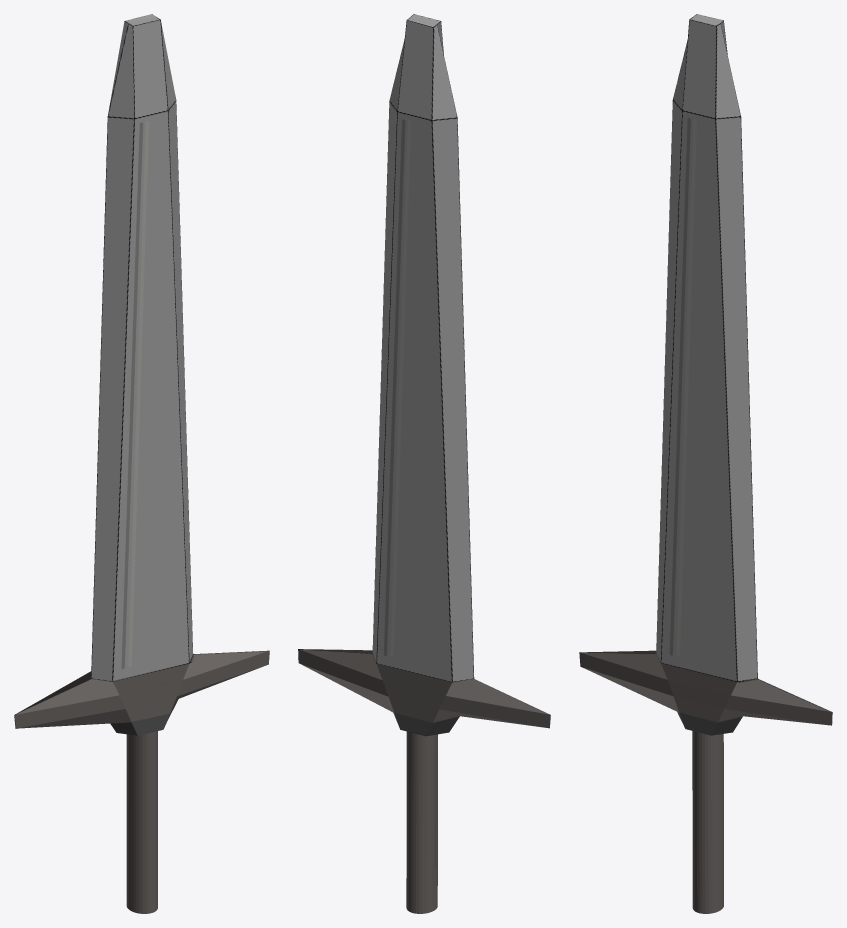
File: sword.fbx
3 renders of one model, left to right at view 1: azimuth 30°, elevation 25°; view 2: azimuth 150°, elevation 25°; view 3: azimuth 330°, elevation 25°, orthographic.
Visible parts, largest first — view 1: Cube; view 2: Cube; view 3: Cube.
Part boxes in pixels (bbox=[...]): Cube: bbox=[14, 14, 269, 913]; Cube: bbox=[298, 14, 550, 913]; Cube: bbox=[579, 14, 832, 913].
Size of the model in its own units: 100 by 334 by 12.5.
1 material, 1 textured.
